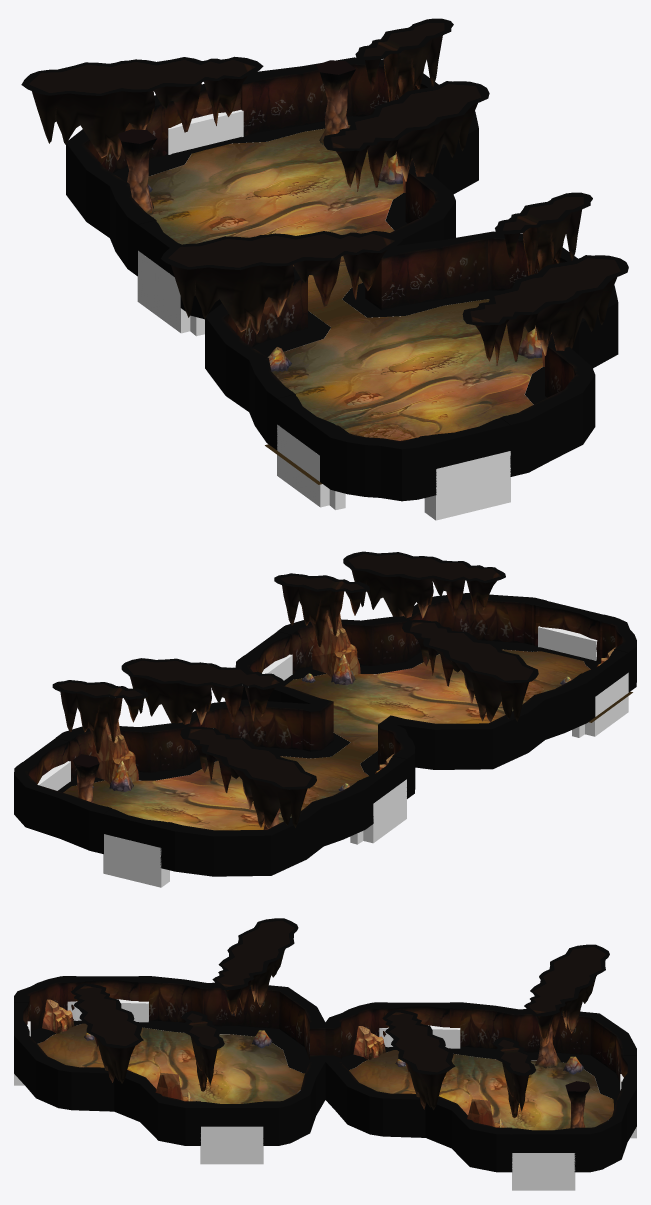
Rendered from Dungeon_011_QuestBossRoom.fbx.
3 renders of one model, top to bottom at view 1: azimuth 30°, elevation 25°; view 2: azimuth 150°, elevation 25°; view 3: azimuth 270°, elevation 25°, orthographic. The views are drawn at different scales.
Parts seen in each view (by area): view 1: Dun_011_Room_003_wall (×2), Dun_011_Room_003_ground (×2), Dungeon_011_Iwa004_3 (×2), Dungeon_011_Iwa004_2 (×2), DoorWay_NavMask (1) (×4), Dungeon_011_Iwa004_1 (×2), Dun_011_Door_002 (×5), Dun_011_Room_003_shadow (×2), Dungeon_011_Object_010 (×2), Dun_011_Door_002_old; view 2: Dun_011_Room_003_wall (×2), Dun_011_Room_003_ground (×2), Dungeon_011_Iwa004_2 (×2), Dungeon_011_Iwa004_3 (×2), DoorWay_NavMask (1) (×5), Dun_011_Door_002 (×6), Dungeon_011_Iwa004_1 (×2), Dungeon_011_Iwa001 (×2), Dun_011_Room_003_shadow (×2), Dun_011_Door_002_old (×2), Dungeon_011_Object_010; view 3: Dun_011_Room_003_wall (×2), Dun_011_Room_003_ground (×2), Dungeon_011_Iwa004_3 (×2), Dungeon_011_Iwa004_2 (×2), Dun_011_Door_002 (×6), DoorWay_NavMask (1) (×2), Dun_011_Room_003_shadow (×2), Dungeon_011_Iwa004_1 (×2), Dun_011_Door_002_old (×2), Dungeon_011_Iwa002 (×2), Dungeon_011_Object_010 (×2), Dungeon_011_Iwa001 (×2) (+1 smaller).
Part boxes in pixels (x1,y1,x2,y2): Dun_011_Room_003_wall (×2): [66, 57, 618, 501]; Dun_011_Room_003_ground (×2): [147, 125, 542, 484]; Dungeon_011_Iwa004_3 (×2): [21, 56, 402, 334]; Dungeon_011_Iwa004_2 (×2): [323, 81, 628, 365]; DoorWay_NavMask (1) (×4): [137, 110, 510, 520]; Dungeon_011_Iwa004_1 (×2): [355, 18, 592, 275]; Dun_011_Door_002 (×5): [138, 75, 525, 468]; Dun_011_Room_003_shadow (×2): [113, 116, 546, 404]; Dungeon_011_Object_010 (×2): [117, 60, 355, 214]; Dun_011_Door_002_old: [129, 213, 181, 257]; Dun_011_Room_003_wall (×2): [14, 593, 636, 876]; Dun_011_Room_003_ground (×2): [63, 649, 632, 830]; Dungeon_011_Iwa004_2 (×2): [121, 551, 505, 724]; Dungeon_011_Iwa004_3 (×2): [180, 620, 538, 828]; DoorWay_NavMask (1) (×5): [37, 626, 628, 887]; Dun_011_Door_002 (×6): [16, 597, 634, 867]; Dungeon_011_Iwa004_1 (×2): [52, 573, 369, 754]; Dungeon_011_Iwa001 (×2): [91, 614, 360, 784]; Dun_011_Room_003_shadow (×2): [71, 640, 601, 785]; Dun_011_Door_002_old (×2): [237, 626, 412, 802]; Dungeon_011_Object_010: [72, 754, 99, 802]; Dun_011_Room_003_wall (×2): [14, 976, 636, 1172]; Dun_011_Room_003_ground (×2): [37, 1023, 613, 1130]; Dungeon_011_Iwa004_3 (×2): [212, 918, 609, 1043]; Dungeon_011_Iwa004_2 (×2): [71, 983, 455, 1109]; Dun_011_Door_002 (×6): [14, 976, 636, 1152]; DoorWay_NavMask (1) (×2): [200, 1126, 575, 1190]; Dun_011_Room_003_shadow (×2): [30, 1020, 620, 1119]; Dungeon_011_Iwa004_1 (×2): [181, 1010, 535, 1118]; Dun_011_Door_002_old (×2): [187, 1002, 463, 1126]; Dungeon_011_Iwa002 (×2): [42, 999, 385, 1059]; Dungeon_011_Object_010 (×2): [535, 1025, 590, 1128]; Dungeon_011_Iwa001 (×2): [155, 1073, 499, 1127].
Size of what is drawn, in the model's own units: 19.01 by 6 by 30.
